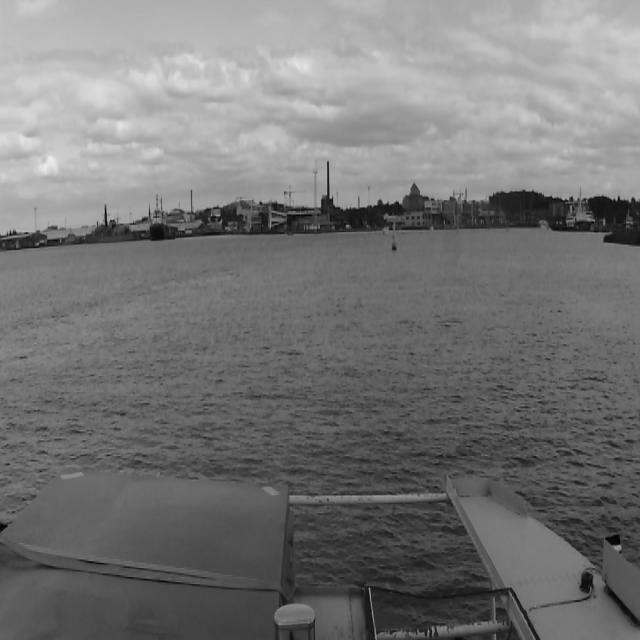buoy: (392, 221, 397, 249), (456, 221, 460, 233)
ship: (552, 187, 594, 230), (150, 194, 166, 238), (380, 223, 390, 236)
